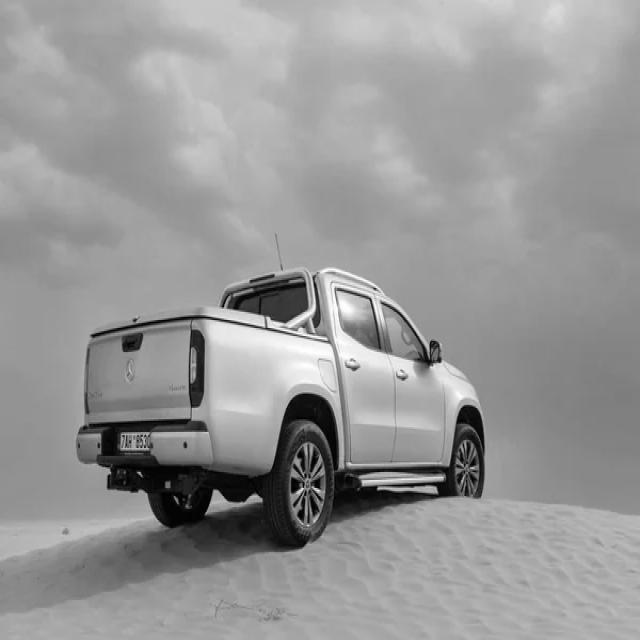Car: (76, 269, 486, 546)
